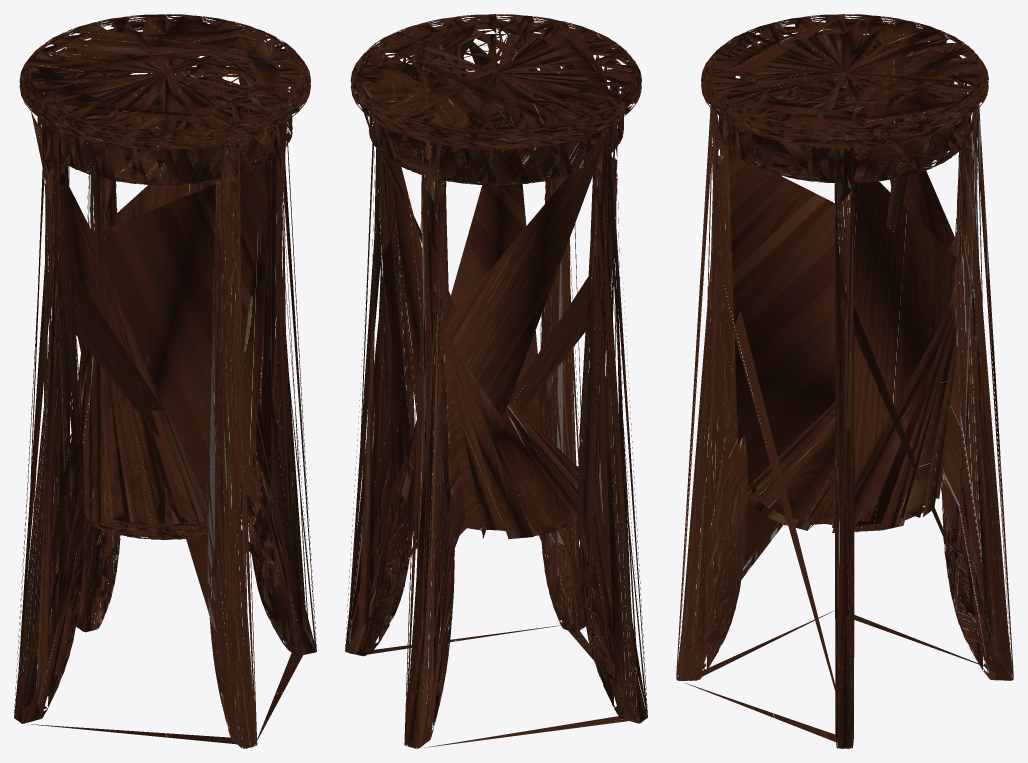
The model's file is ph-tall-side-table.glb.
3 views of the same model, side by side, from view 1: azimuth 30°, elevation 25°; view 2: azimuth 150°, elevation 25°; view 3: azimuth 270°, elevation 25° (orthographic).
Visible parts, largest first — view 1: side_table_tall_01; view 2: side_table_tall_01; view 3: side_table_tall_01.
Boxes of the visible parts, x1,y1,x2,y2 form: side_table_tall_01: (14,14,316,748); side_table_tall_01: (345,14,647,748); side_table_tall_01: (676,14,1013,748).
Bounding box in the file's own units: 0.384 × 0.7612 × 0.384.
1 material, 1 textured.
